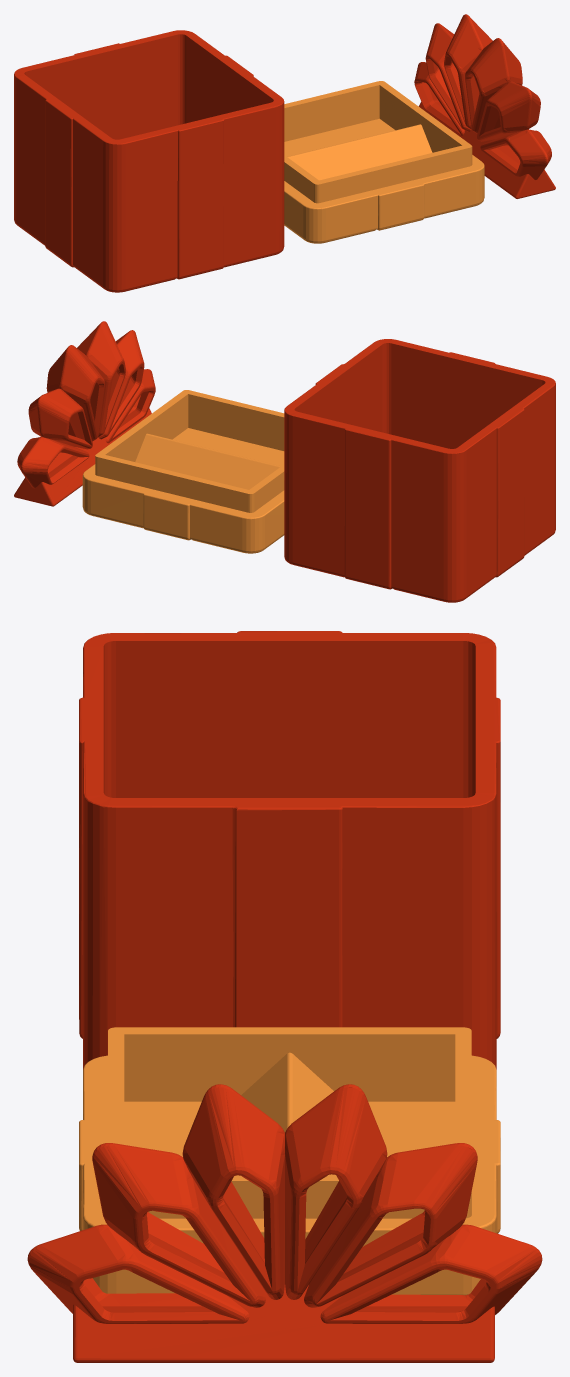
Rendered from Gift box.glb.
3 renders of one model, top to bottom at view 1: azimuth 30°, elevation 25°; view 2: azimuth 150°, elevation 25°; view 3: azimuth 270°, elevation 25°, orthographic. The views are drawn at different scales.
Size of the model in its own units: 0.1251 by 0.04 by 0.0623.
